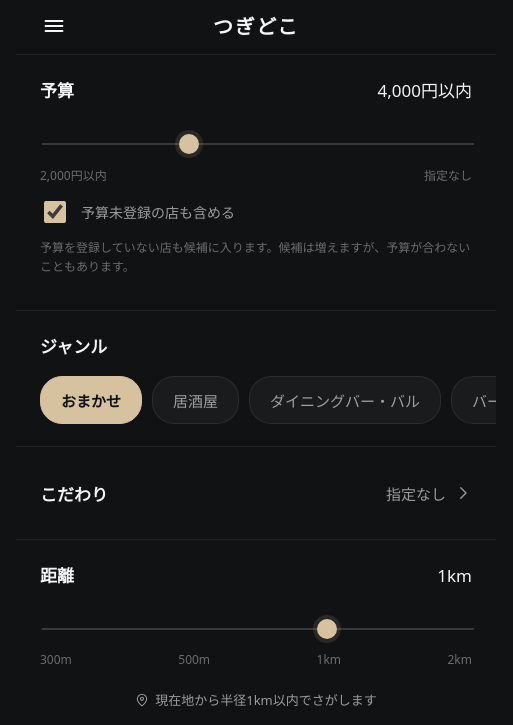
Test: トップ画面 › 深夜帯でなければ「23時以降営業」はOFFのまま
Click the text "こだわり".
click(74, 493)  # box [40,481,108,506]
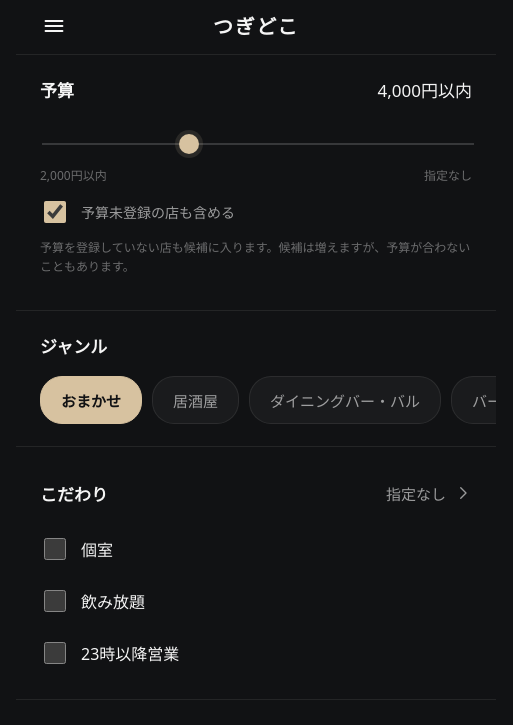
Check: the checkbox labelled "23時以降営業" is not checked, box [44,642,66,664]
